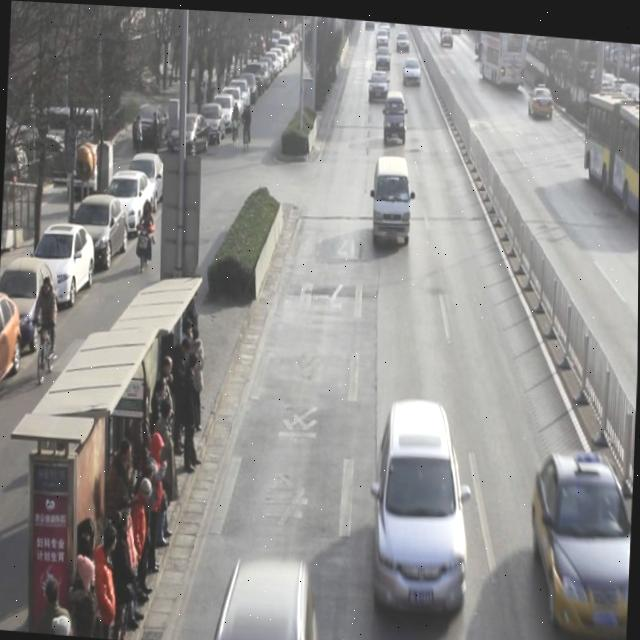car: (371, 393, 475, 613), (527, 443, 635, 640), (210, 554, 323, 640), (526, 79, 554, 114), (368, 66, 389, 100), (403, 52, 422, 83), (374, 39, 391, 68)
truck: (371, 149, 413, 244), (382, 85, 408, 144)
van: (578, 78, 640, 210)
